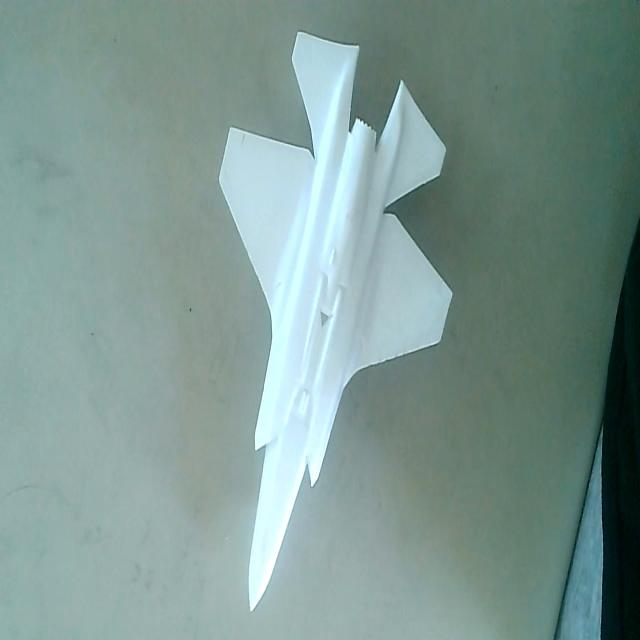Jet: (215, 26, 455, 620)
